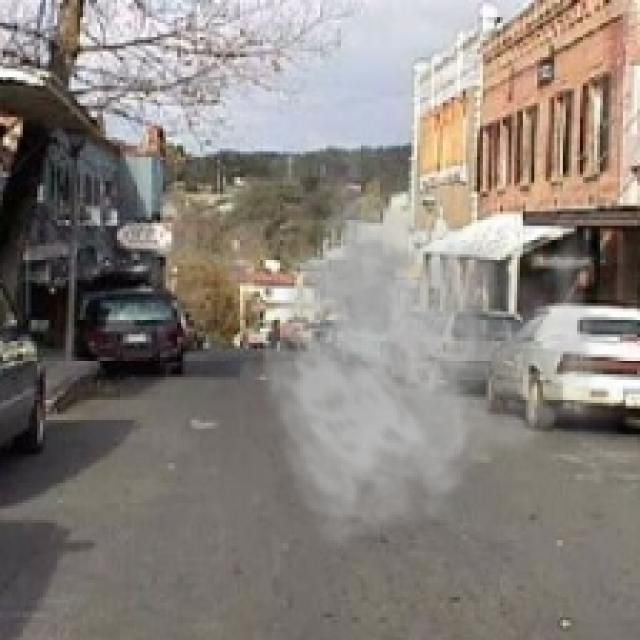smoke: (260, 157, 629, 549)
